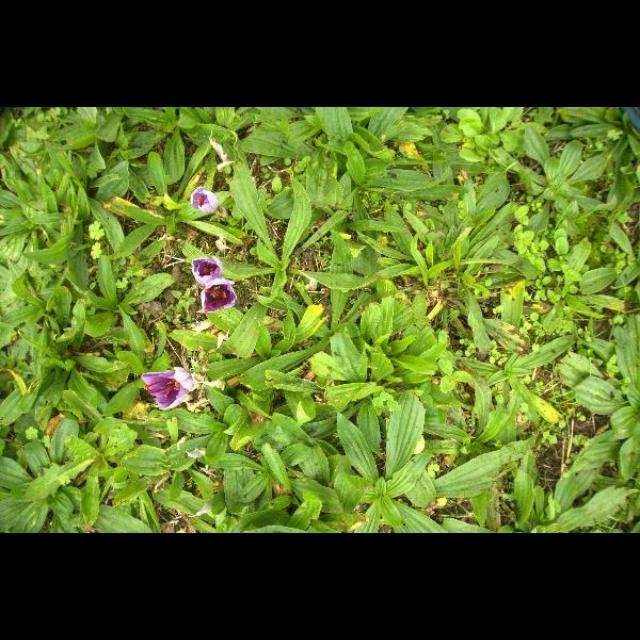flower: (140, 368, 196, 410), (198, 278, 238, 314), (192, 255, 224, 285), (190, 186, 220, 214)
